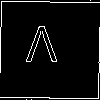V: (24, 25, 58, 73)
